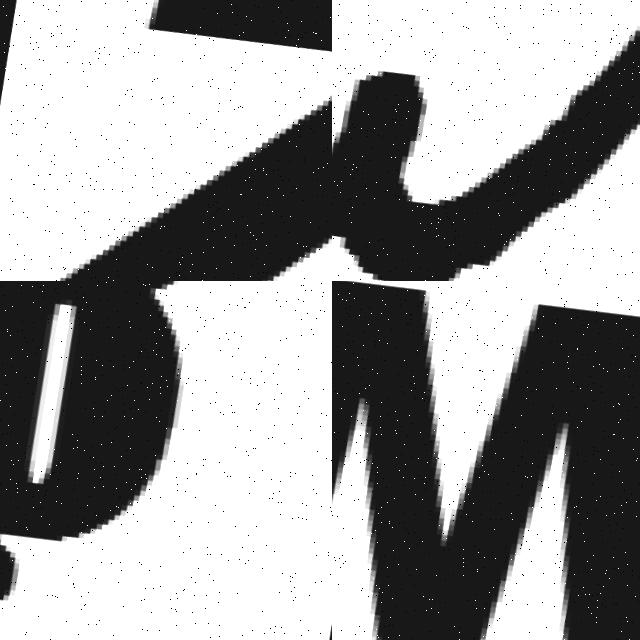C: (332, 21, 640, 281)
G: (0, 281, 268, 640)
W: (332, 281, 640, 640)
Z: (0, 0, 332, 281)
